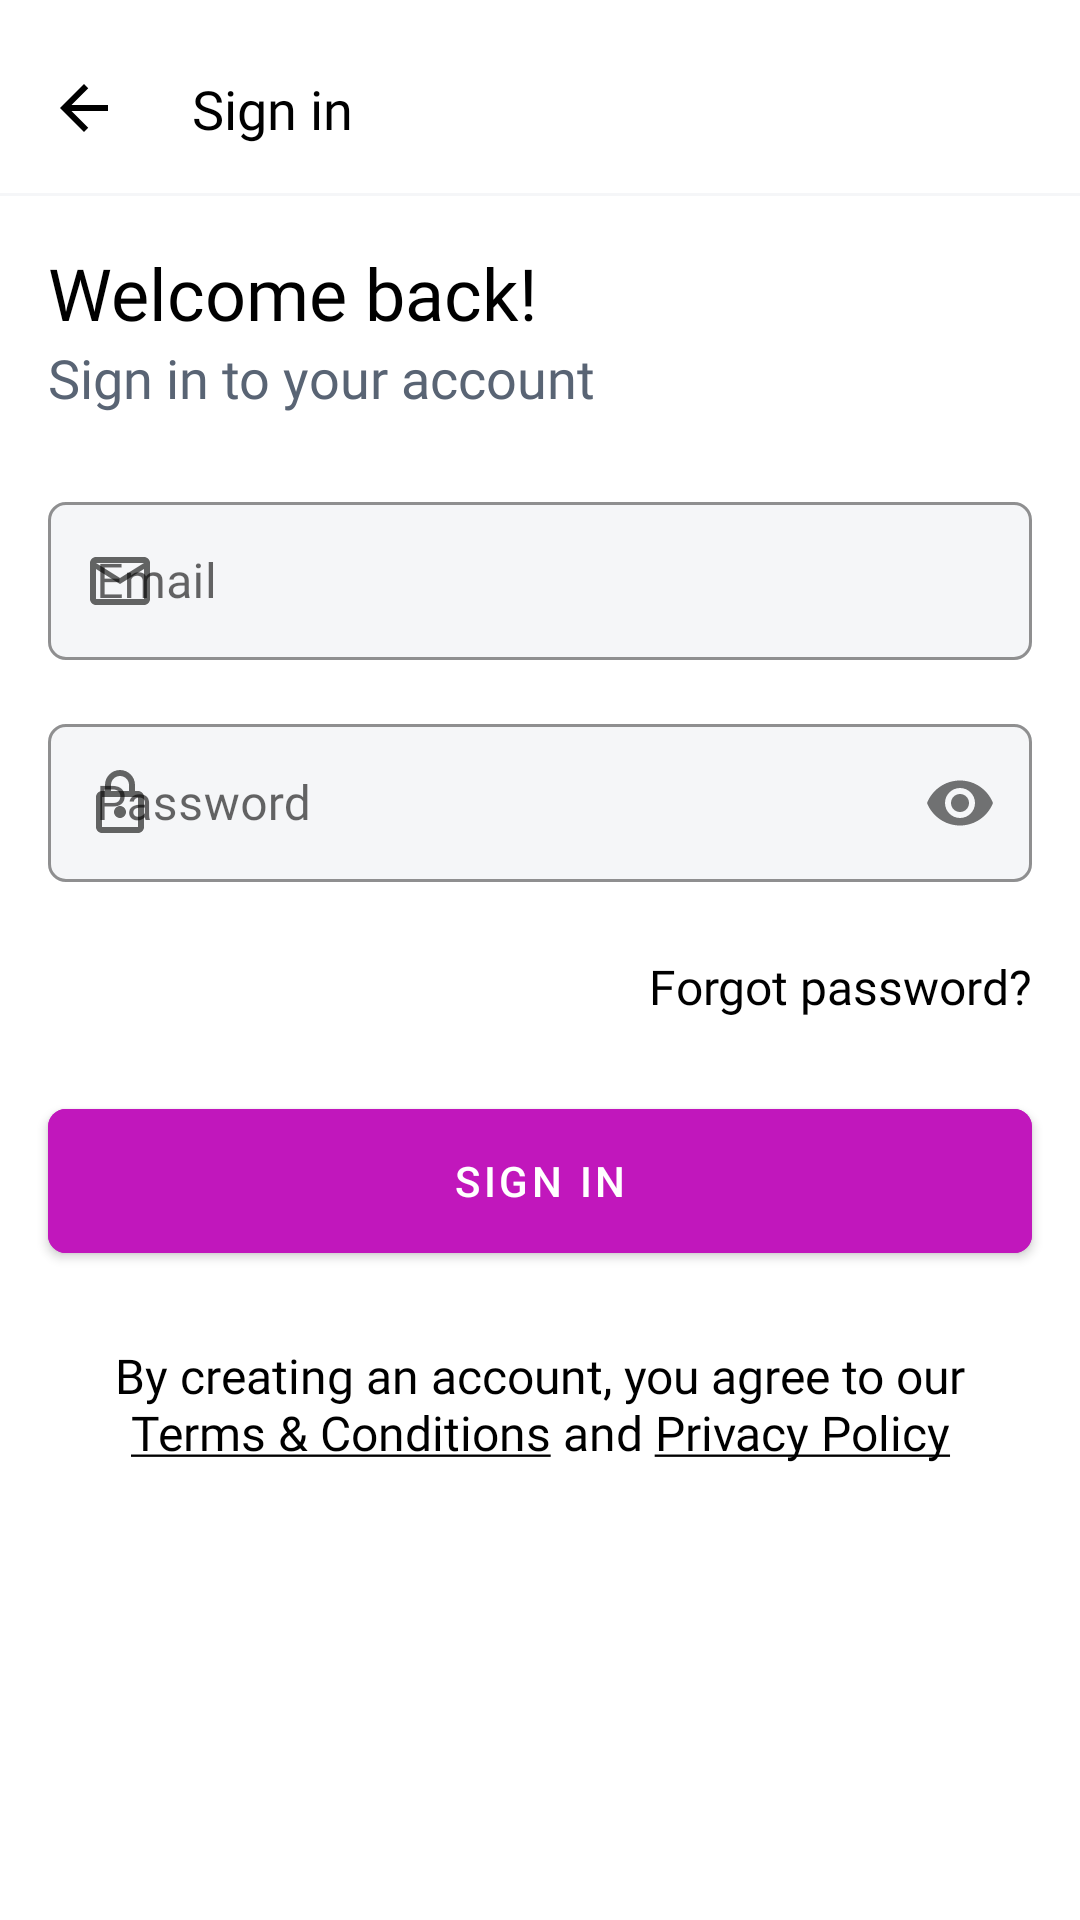

Locate icon controls on the screen. Image size 1080×1920, boxes as (x1, y1, x2, y2).
arrow back: (60, 84, 108, 132)
